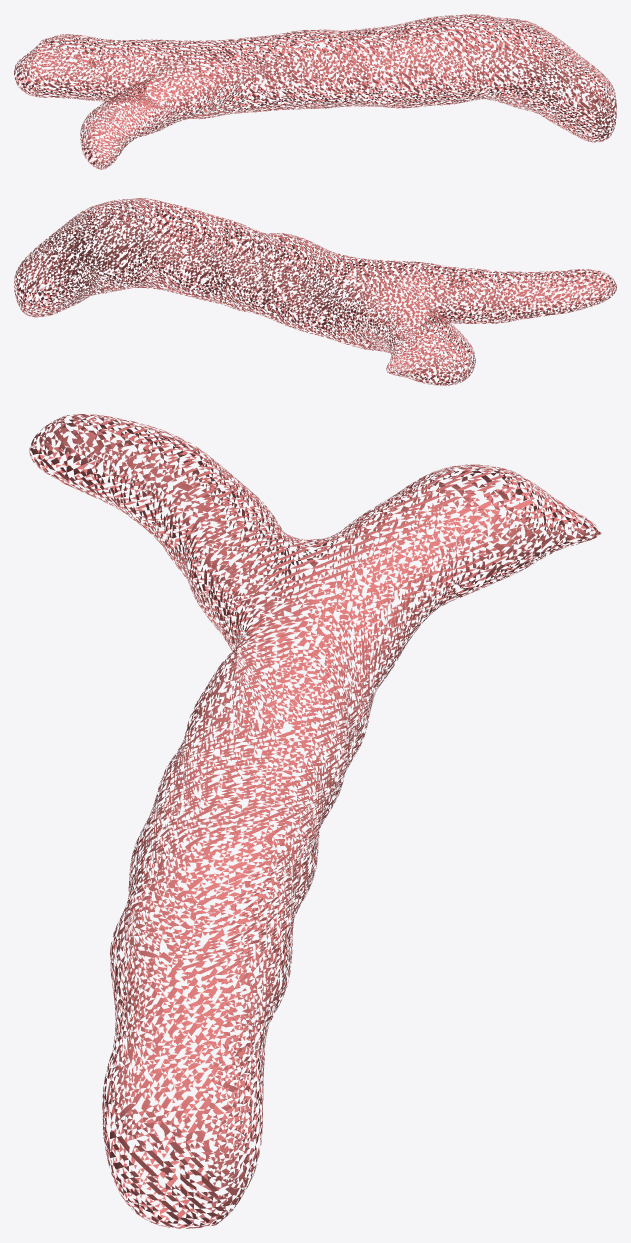
File: morph_000.glb
The picture shows the model from 3 angles, top to bottom: view 1: azimuth 30°, elevation 25°; view 2: azimuth 150°, elevation 25°; view 3: azimuth 270°, elevation 25°; orthographic projection. The views are drawn at different scales.
Bounding box in the file's own units: 139 × 37.08 × 62.17.
